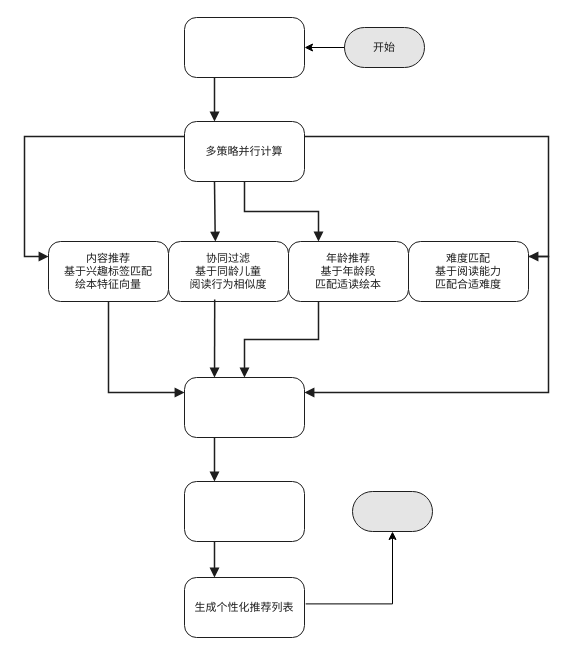
Image size: 575x655. Some labels were removed from this diagram. The centre of each missing label's shape, as x and y in pixels:
"加权融合各策略得分 计算综合推荐评分" belongs at [244,407].
"按评分排序 筛选Top-N绘本" belongs at [244,511].
"结束" belongs at [392,511].
"获取儿童基本信息 (年龄、阅读类型、兴趣标签)" belongs at [244,47].
